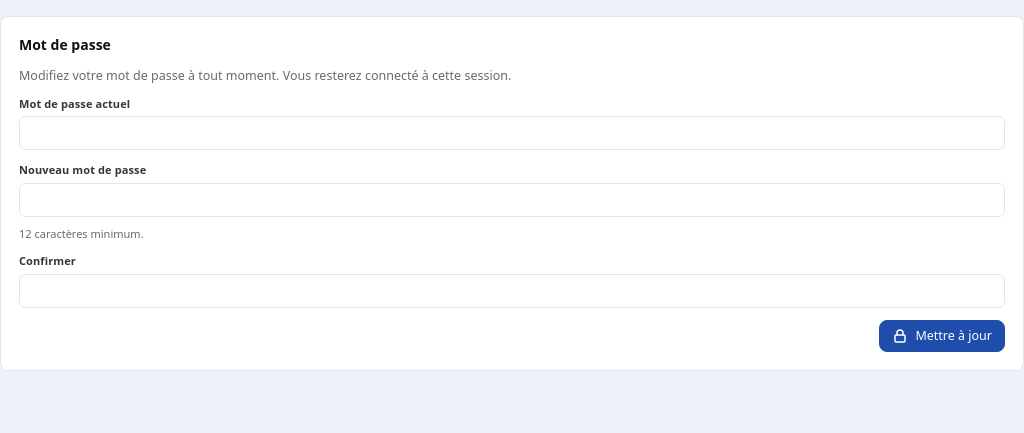
Test: <PasswordChangeSection /> › 2. rejects mismatched confirmation
Step 1. Type "Old-Pwd-2026!" into the password field labelled "Mot de passe actuel" → (512,134), box [19,116,1005,150]
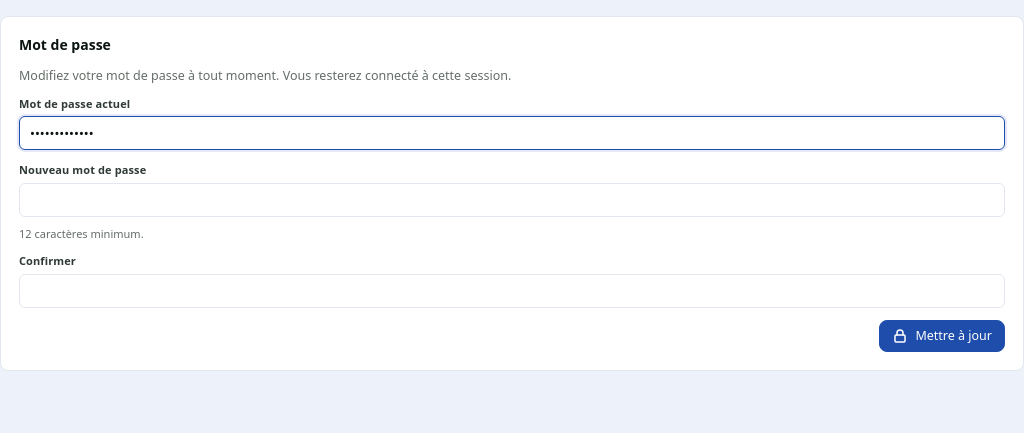
Step 2. Type "Brand-New-Pwd-2026!" into the password field labelled "Nouveau mot de passe" → (512,200), box [19,183,1005,217]
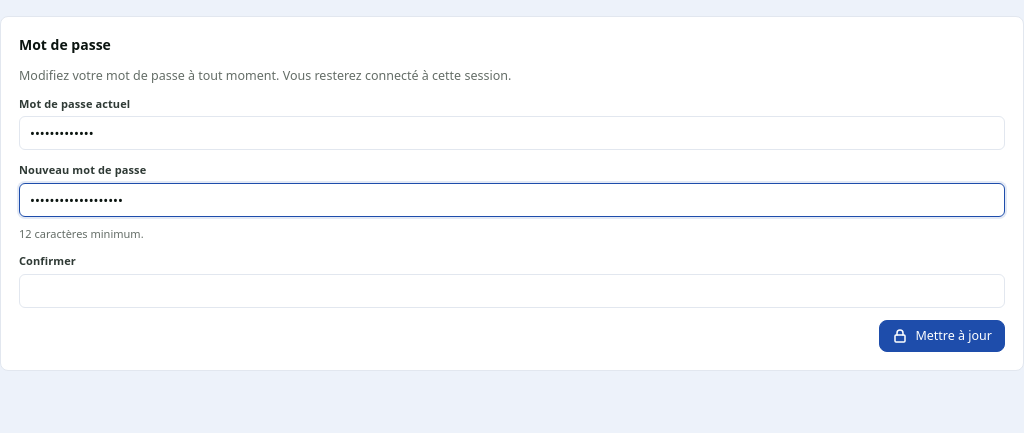
Step 3. Type "Different-Pwd-2026!" into the password field labelled "Confirmer" → (512,291), box [19,274,1005,308]
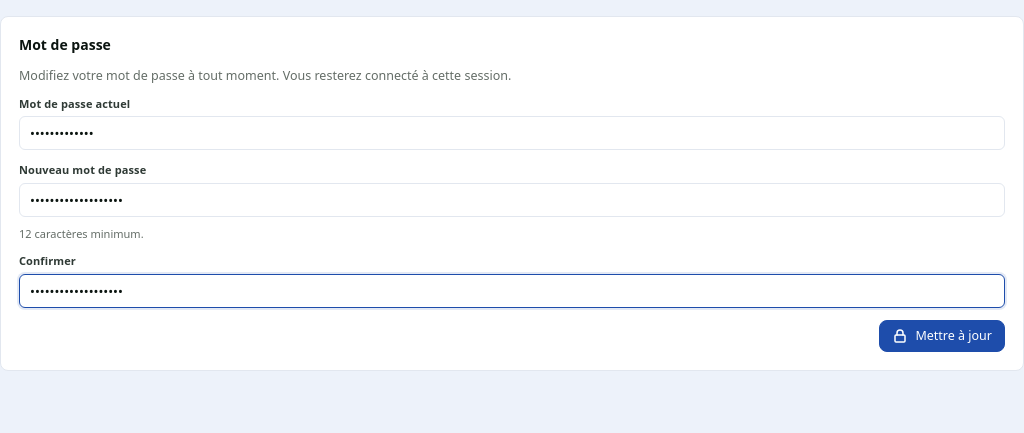
Step 4. Click the button "Mettre à jour" → (942,336), box [879,320,1005,352]
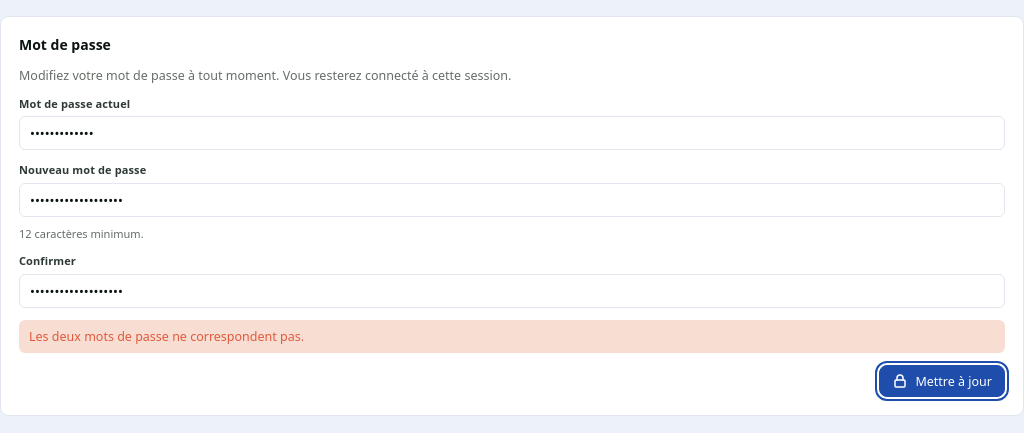
Check: the text "Les deux mots de passe ne correspondent pas." is shown, box [19,320,1005,353]
